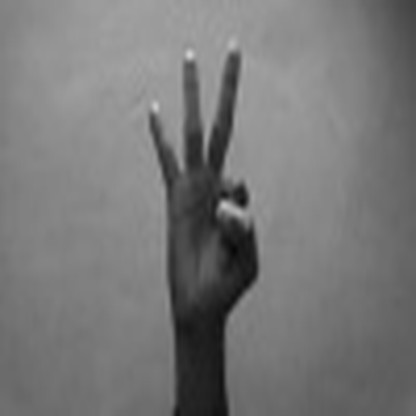f: (135, 42, 277, 322)
